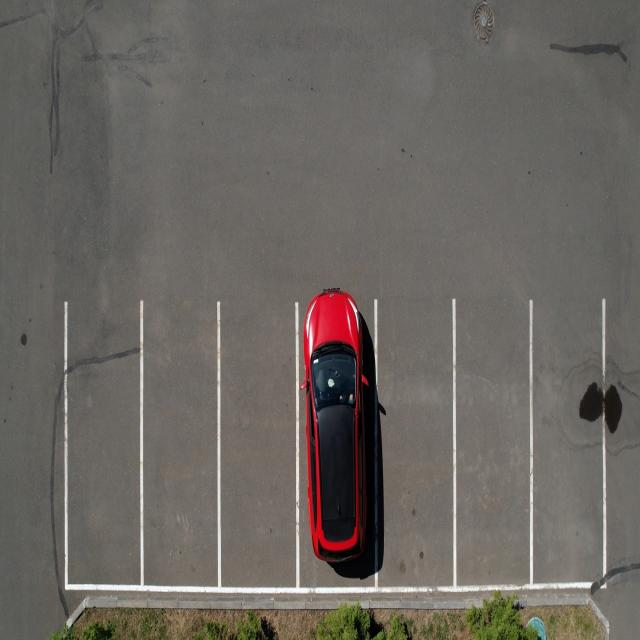space-empty: (450, 297, 534, 587), (139, 298, 222, 588), (218, 298, 300, 588), (63, 302, 144, 588), (378, 292, 457, 585), (528, 297, 607, 587)
space-occupied: (296, 296, 376, 575)
